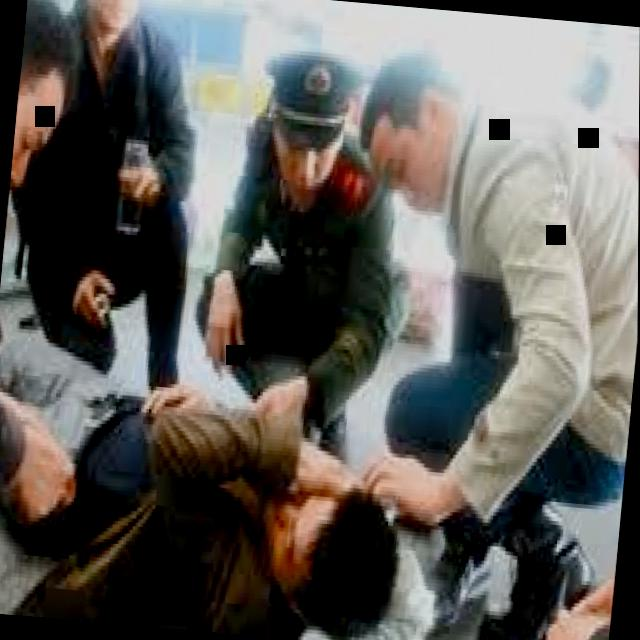Fall-Detected: (0, 265, 444, 640)
